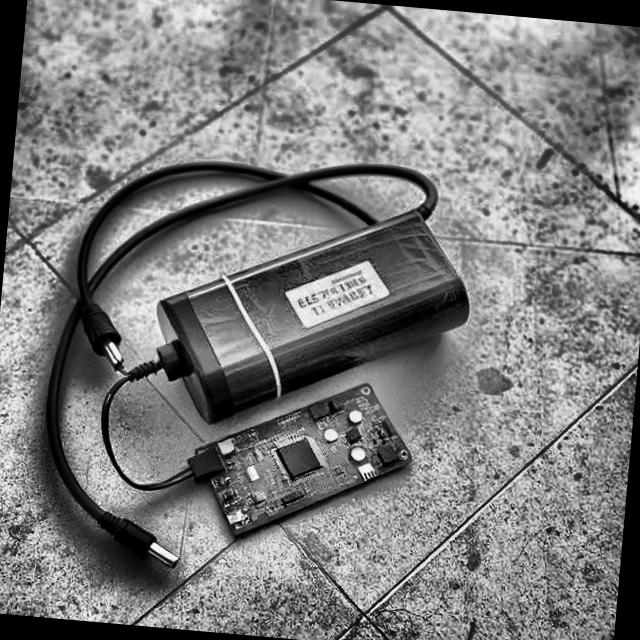Battery: (157, 208, 471, 418)
Cable: (40, 162, 443, 573)
PCB: (191, 381, 412, 541)
